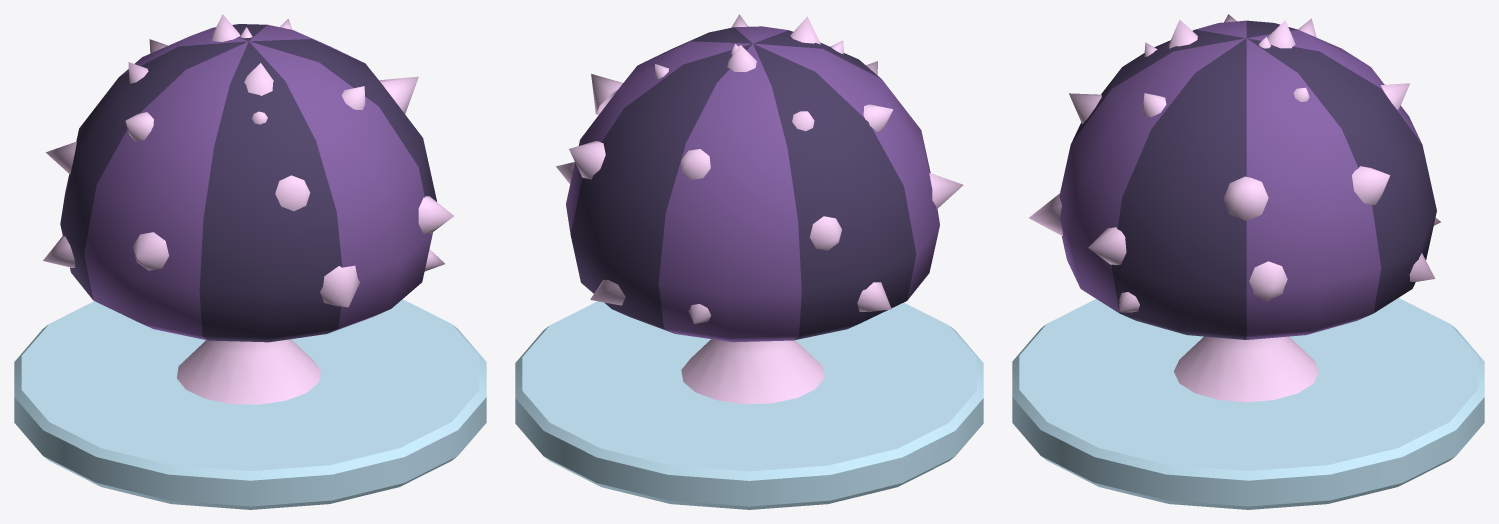
File: CactiMushroom.fbx
The picture shows the model from 3 angles, left to right: view 1: azimuth 30°, elevation 25°; view 2: azimuth 150°, elevation 25°; view 3: azimuth 270°, elevation 25°; orthographic projection.
Visible parts, largest first — view 1: CactiMushroom_LOD0; view 2: CactiMushroom_LOD0; view 3: CactiMushroom_LOD0.
Boxes of the visible parts, box(x1,y1,x2,y2) form: CactiMushroom_LOD0: box(14, 14, 486, 509); CactiMushroom_LOD0: box(515, 14, 983, 509); CactiMushroom_LOD0: box(1012, 14, 1484, 509).
Size of what is drawn, in the model's own units: 293 by 261 by 289.
